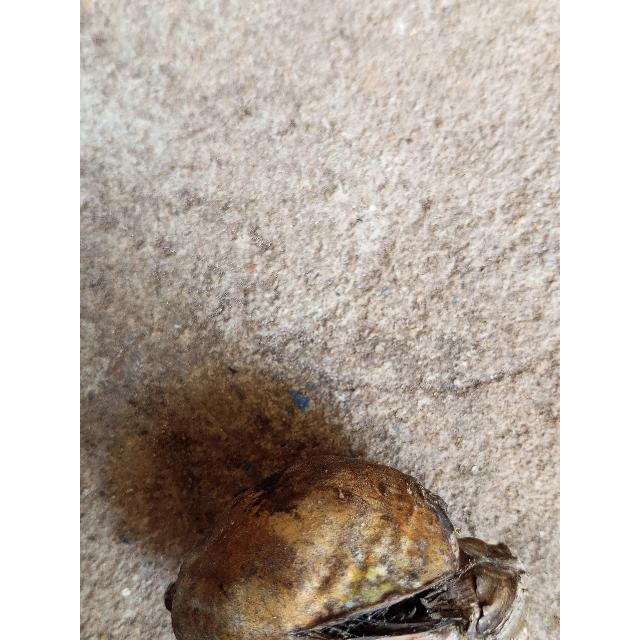damaged: (165, 454, 523, 640)
